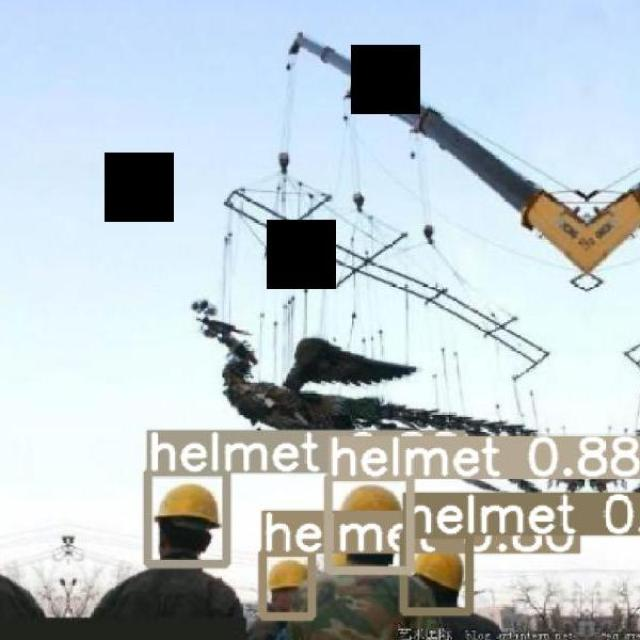yellow helmet: (338, 484, 406, 561), (153, 481, 225, 537), (412, 549, 468, 596), (268, 560, 309, 597)
